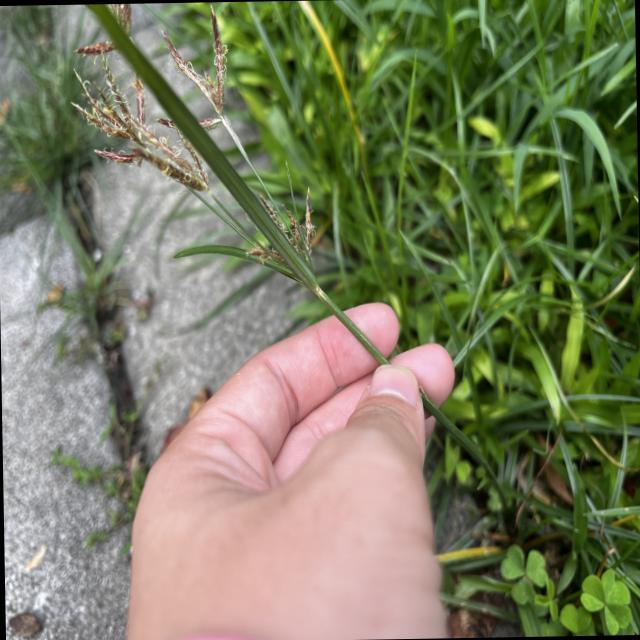cyperus: (63, 0, 325, 300)
